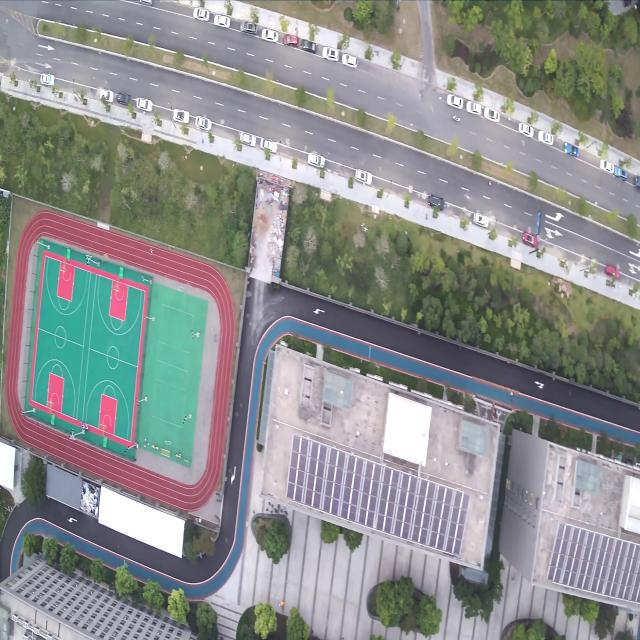UAV: (275, 389, 281, 398)
